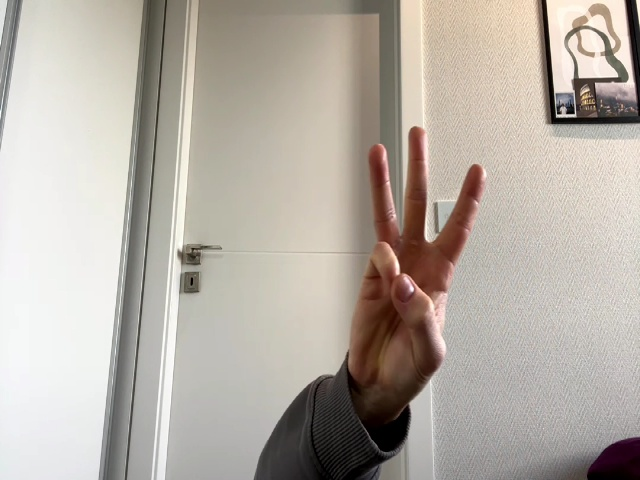W: (351, 126, 486, 395)
